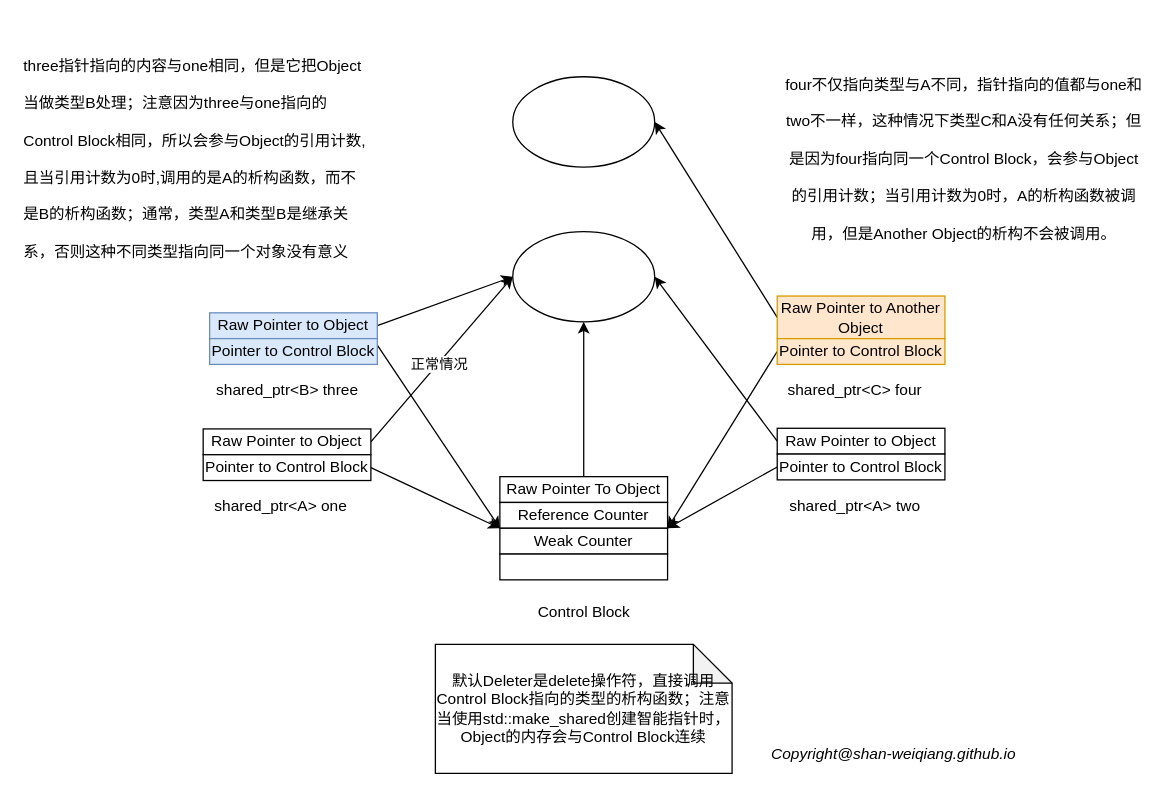
This 1166x796 diagram has some shape labels left out. Each missing label, with the centre of its shape:
Another Object （of type C): the point at 583,121
Deleter: the point at 583,566
Object (of type A): the point at 583,276
